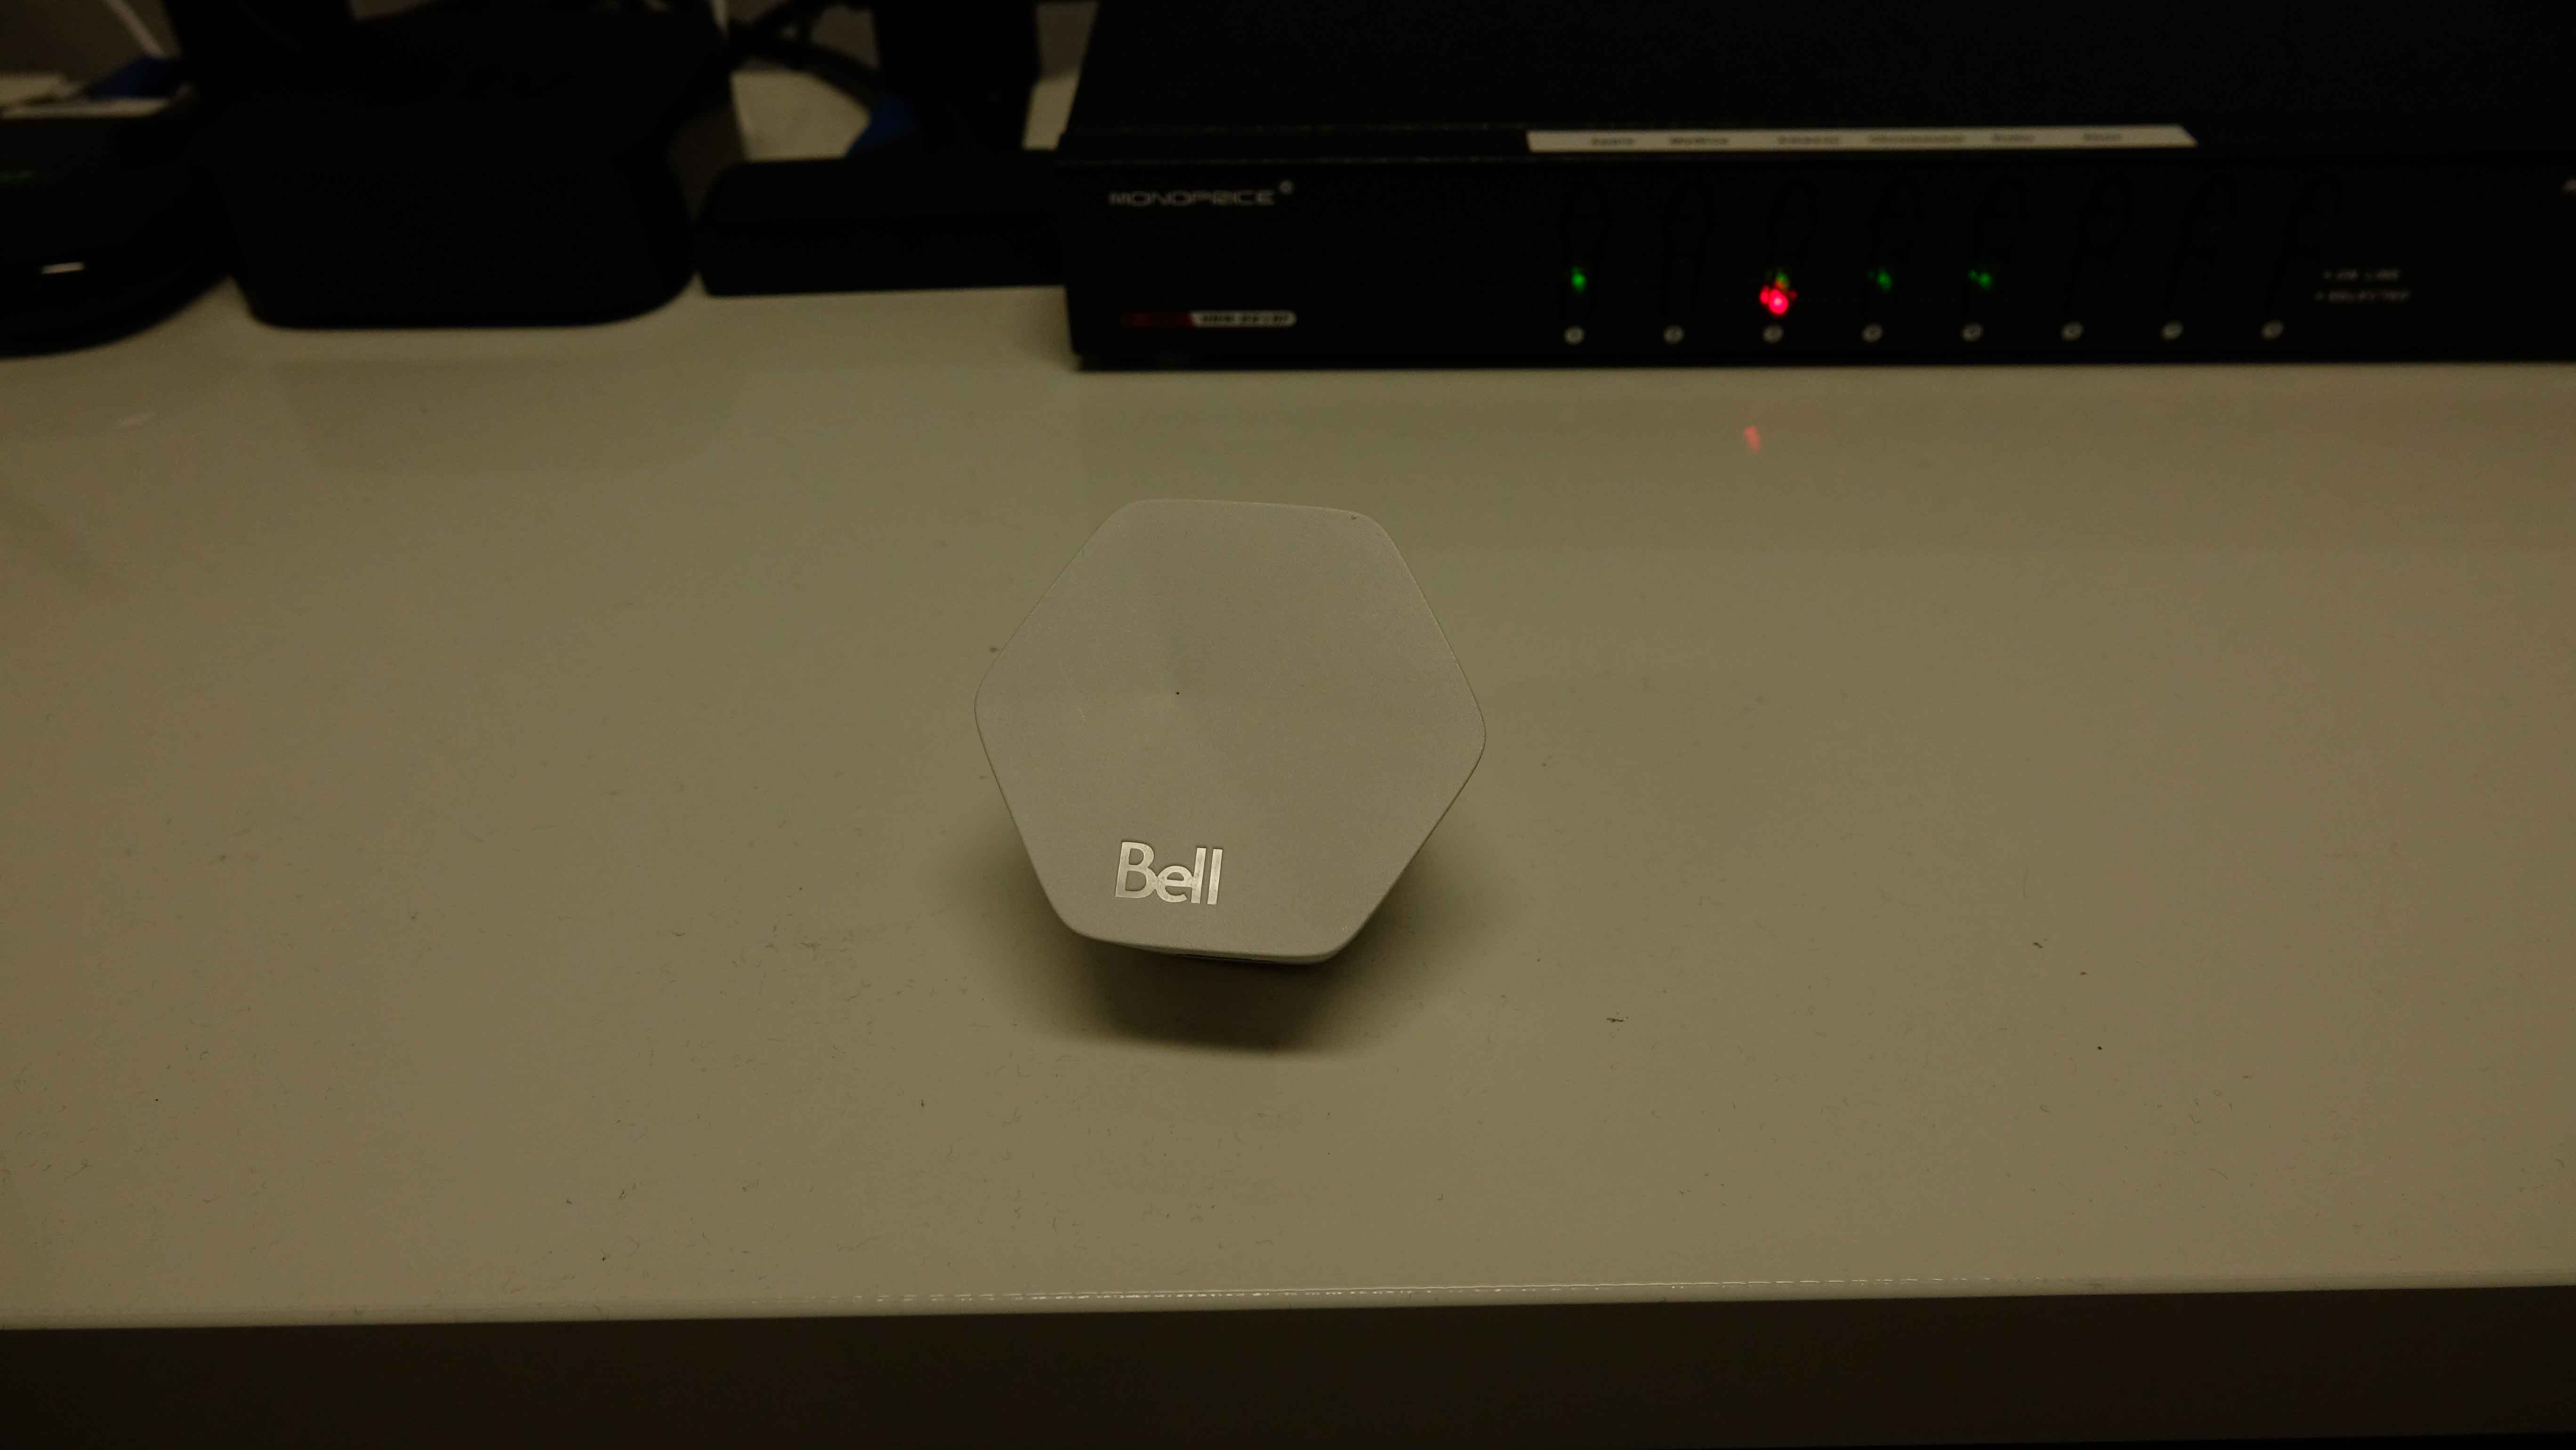pod: (964, 485, 1497, 985)
